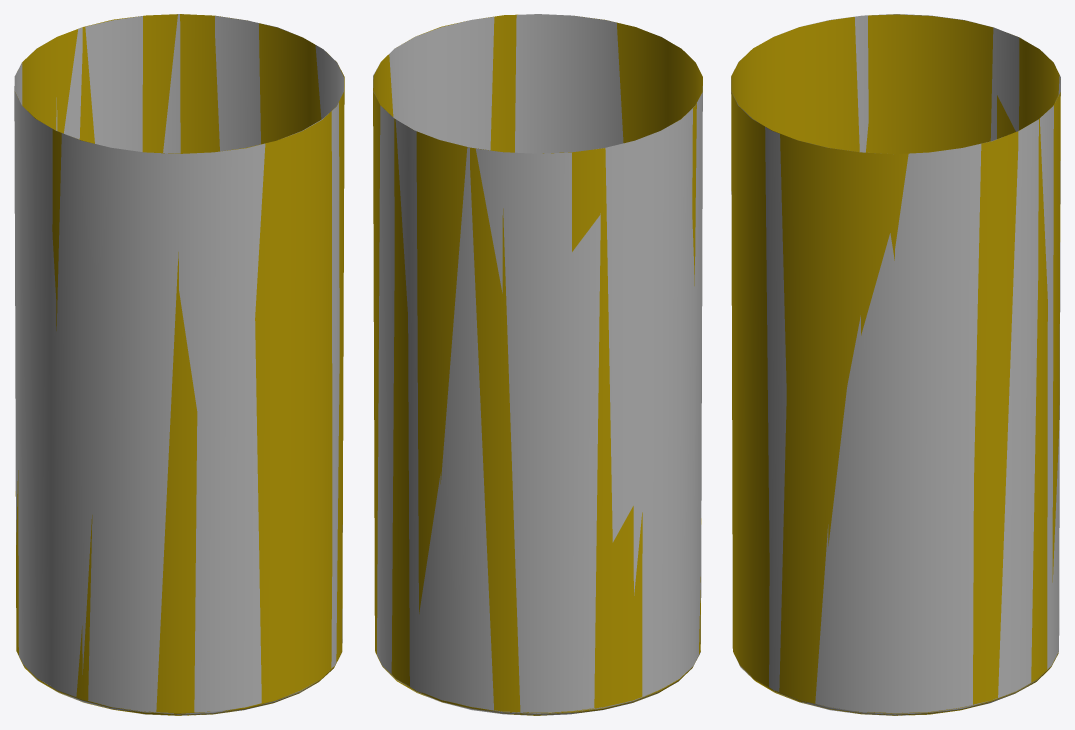
The model's file is original_2.obj.
3 renders of one model, left to right at view 1: azimuth 30°, elevation 25°; view 2: azimuth 150°, elevation 25°; view 3: azimuth 270°, elevation 25°, orthographic.
Visible parts, largest first — view 1: group_1/ID15#ID15; view 2: group_1/ID15#ID15; view 3: group_1/ID15#ID15.
Part boxes in pixels (<box>): group_1/ID15#ID15: <box>14,14,344,715</box>; group_1/ID15#ID15: <box>373,14,702,715</box>; group_1/ID15#ID15: <box>731,14,1060,715</box>.
Size of the model in its own units: 0.1324 by 0.2488 by 0.1316.
